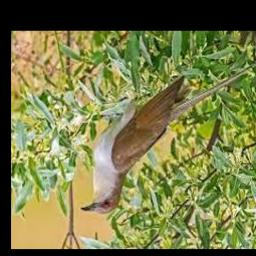Cuckoo: (79, 60, 256, 215)
